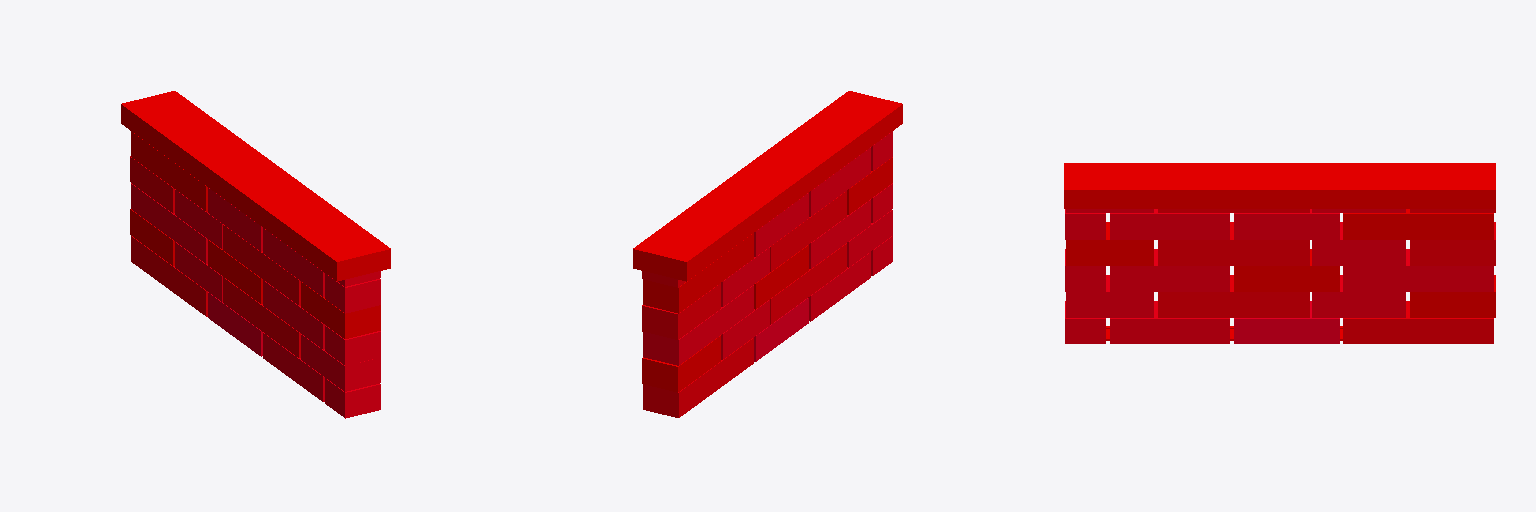
Rendered from brickFence.obj.
3 views of the same model, side by side, from view 1: azimuth 30°, elevation 25°; view 2: azimuth 150°, elevation 25°; view 3: azimuth 270°, elevation 25° (orthographic).
Parts seen in each view (by area): view 1: BrickFence_Cube.037; view 2: BrickFence_Cube.037; view 3: BrickFence_Cube.037.
Part boxes in pixels (x1,y1,x2,y2): BrickFence_Cube.037: (121,91,390,418); BrickFence_Cube.037: (633,91,902,417); BrickFence_Cube.037: (1064,163,1495,343).
Bounding box in the file's own units: 0.1477 × 0.4131 × 1.02.